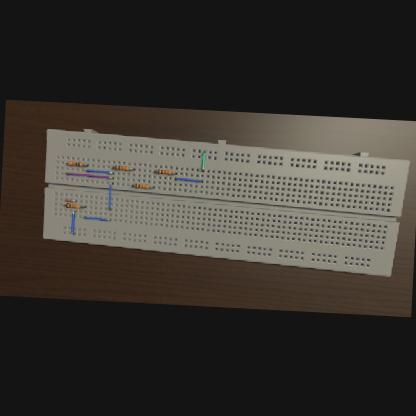breadboard: (41, 126, 410, 278)
resistor: (67, 161, 83, 167), (156, 168, 172, 174), (114, 166, 128, 172), (134, 184, 148, 190), (66, 204, 80, 209)
wire: (64, 172, 112, 179), (70, 211, 76, 235), (108, 184, 113, 210), (174, 178, 202, 182), (83, 216, 110, 220), (202, 150, 206, 171), (86, 170, 114, 173), (64, 200, 76, 202), (148, 186, 154, 188), (130, 168, 134, 170), (172, 172, 176, 174), (82, 164, 88, 165), (80, 206, 86, 207), (154, 170, 156, 172), (131, 184, 133, 186), (66, 163, 66, 164), (112, 168, 114, 168)
